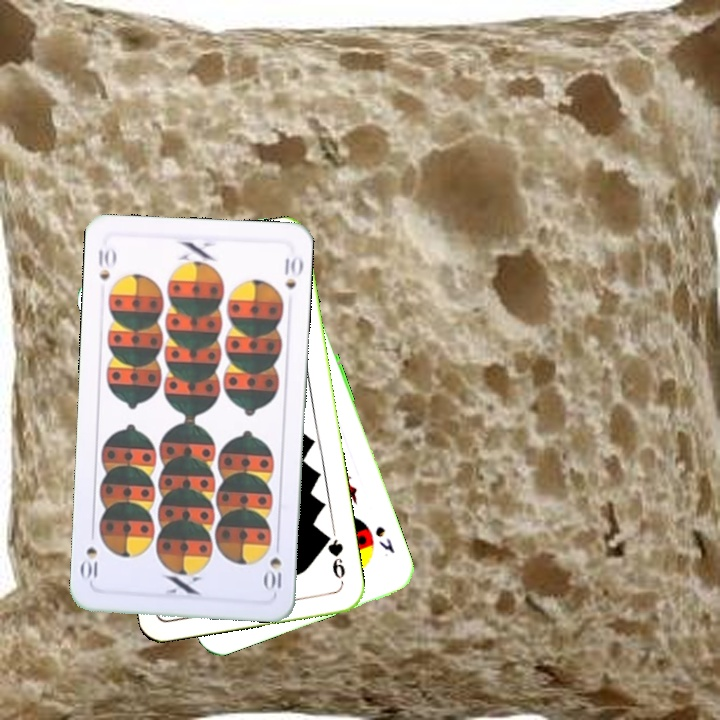G9: (320, 529, 348, 587)
S10: (262, 537, 284, 594), (94, 244, 118, 283)
SK: (371, 522, 397, 559)
